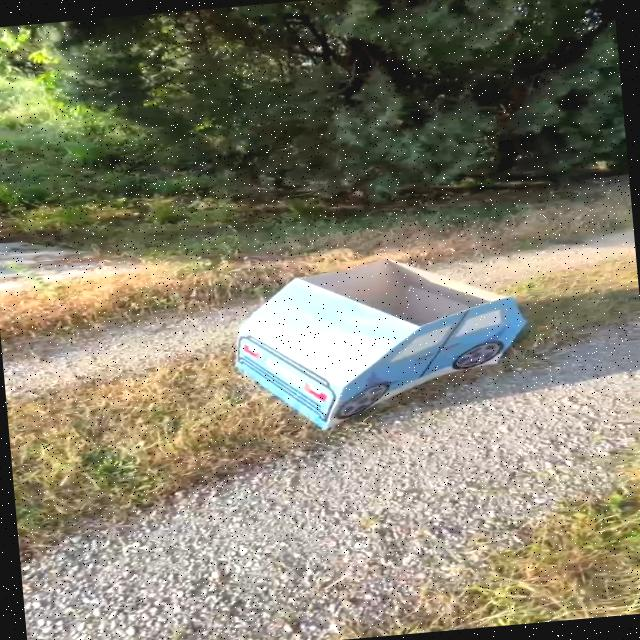blue_car: (153, 224, 574, 495)
